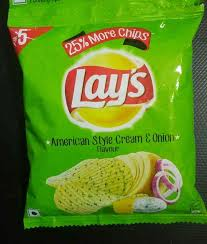lays-small-5: (11, 20, 207, 226)
